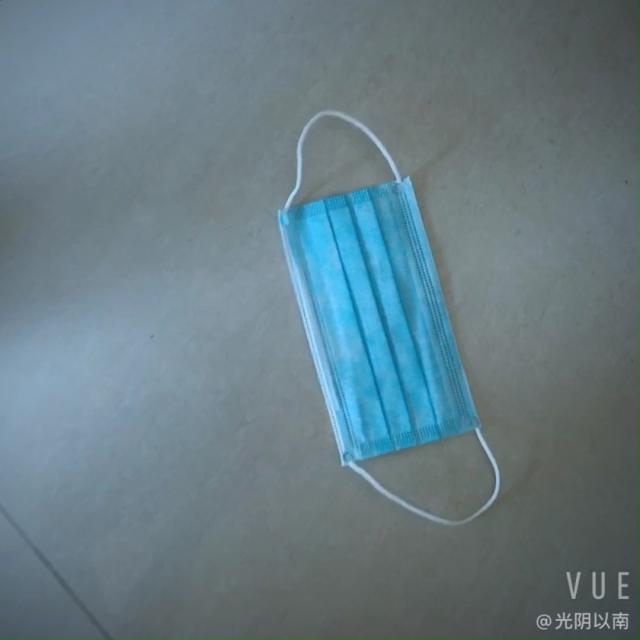non-organic waste: (256, 177, 482, 475)
